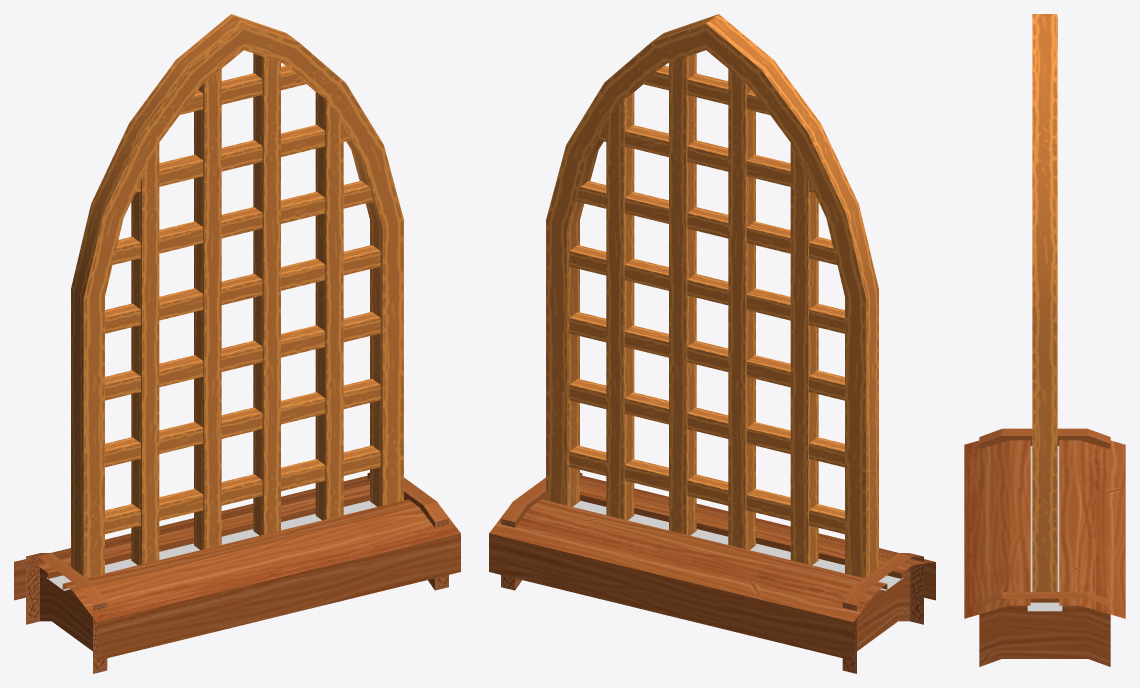
Rendered from gate_02.fbx.
3 views of the same model, side by side, from view 1: azimuth 30°, elevation 25°; view 2: azimuth 150°, elevation 25°; view 3: azimuth 270°, elevation 25° (orthographic). The views are drawn at different scales.
Parts seen in each view (by area): view 1: Cube.085, Cube.084, Cube.086; view 2: Cube.085, Cube.084, Cube.086; view 3: Cube.084, Cube.085, Cube.086.
Part boxes in pixels (x1,y1,x2,y2): Cube.085: (71, 14, 403, 577); Cube.084: (14, 472, 460, 673); Cube.086: (47, 500, 376, 590); Cube.085: (546, 14, 878, 577); Cube.084: (489, 472, 935, 673); Cube.086: (573, 500, 902, 590); Cube.084: (964, 428, 1125, 666); Cube.085: (1032, 14, 1057, 591); Cube.086: (1027, 446, 1062, 611).
Size of the model in its own units: 3.06 by 4.71 by 1.2.
